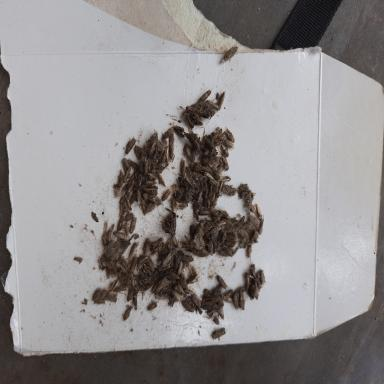pbw: (217, 274, 229, 294), (199, 86, 215, 101), (124, 136, 136, 155), (110, 284, 127, 296), (224, 125, 235, 143), (123, 304, 134, 322), (187, 270, 201, 284), (210, 327, 226, 339), (180, 299, 194, 312), (217, 142, 230, 156), (174, 122, 186, 137), (217, 90, 226, 110), (208, 310, 220, 325), (220, 154, 230, 171), (238, 290, 246, 310), (253, 204, 263, 220), (186, 105, 199, 117), (206, 99, 219, 111), (174, 281, 186, 294), (187, 170, 196, 187), (232, 291, 240, 310), (129, 242, 137, 261), (129, 216, 137, 234), (246, 190, 254, 208), (127, 159, 140, 170), (162, 127, 173, 140), (217, 207, 230, 218), (161, 187, 171, 201), (169, 136, 175, 159), (161, 254, 172, 266), (124, 194, 132, 210), (258, 214, 264, 235), (117, 215, 125, 230), (224, 138, 236, 148), (147, 300, 157, 312), (164, 144, 170, 164), (143, 237, 150, 254), (147, 255, 154, 272), (119, 184, 128, 197), (108, 279, 117, 292), (247, 244, 253, 263), (140, 197, 146, 216), (222, 289, 232, 300), (149, 196, 161, 205), (180, 159, 186, 177), (176, 202, 189, 210), (144, 157, 150, 174), (204, 171, 215, 180), (172, 291, 183, 300), (136, 279, 145, 290), (171, 234, 178, 248), (157, 174, 165, 186), (136, 258, 148, 266), (207, 240, 213, 256), (153, 237, 163, 246), (118, 263, 127, 273), (177, 261, 183, 276), (238, 184, 244, 199), (124, 221, 129, 238), (190, 146, 195, 163), (155, 293, 167, 300), (113, 231, 125, 238), (220, 175, 232, 182), (244, 272, 250, 286), (218, 305, 224, 319), (137, 268, 145, 278), (127, 285, 132, 301), (197, 209, 210, 215), (133, 294, 139, 307), (150, 141, 156, 154), (218, 249, 229, 256), (124, 167, 131, 178), (130, 272, 135, 287), (210, 190, 216, 202), (211, 132, 217, 144), (156, 144, 166, 151), (143, 179, 157, 184), (184, 287, 194, 294), (137, 173, 142, 187), (106, 229, 111, 243), (146, 187, 160, 192), (138, 188, 142, 205), (211, 226, 222, 232), (218, 181, 223, 194), (171, 196, 175, 212), (232, 247, 239, 256), (120, 222, 129, 229), (203, 136, 209, 146), (189, 116, 194, 128), (194, 120, 204, 126), (118, 175, 123, 187), (162, 148, 166, 163), (198, 190, 202, 202), (240, 215, 245, 224), (227, 247, 232, 256), (172, 184, 176, 194), (218, 126, 222, 136), (227, 229, 238, 232)
